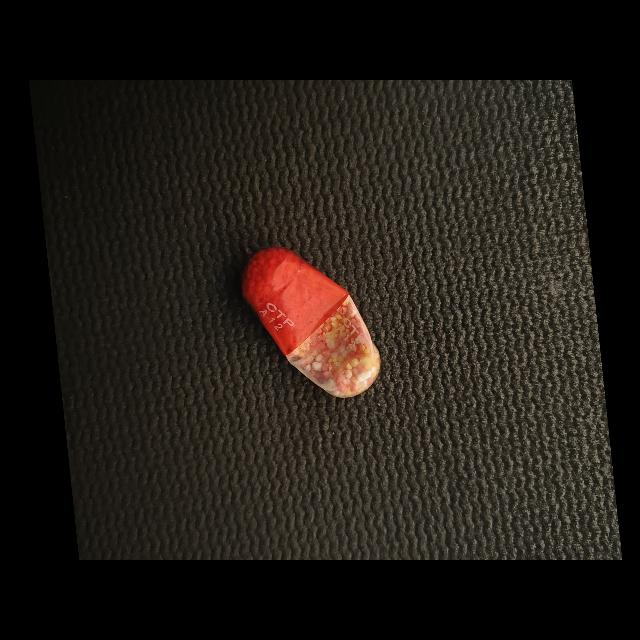Defective Capsule: (242, 247, 381, 398)
